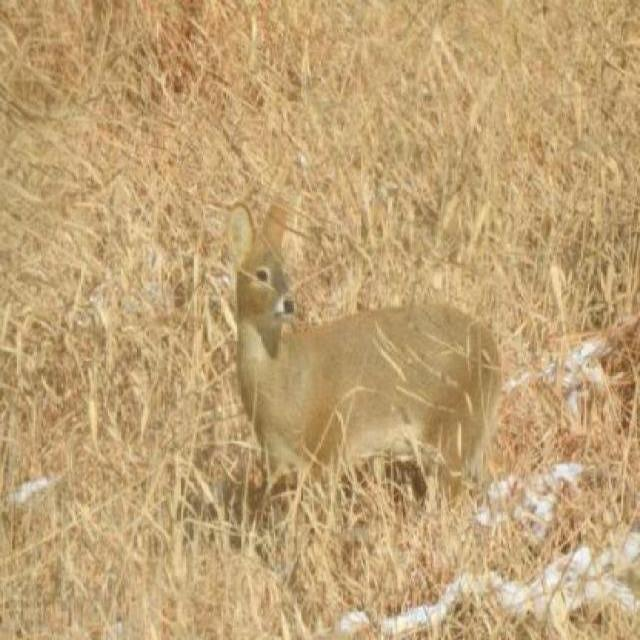deer: (210, 182, 502, 513)
